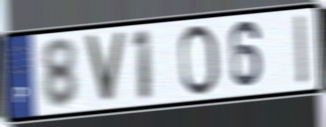1: (130, 27, 156, 103)
6: (228, 19, 264, 93)
8: (40, 35, 81, 112)
I: (293, 12, 311, 88)
O: (177, 22, 222, 99)
V: (82, 31, 128, 106)
